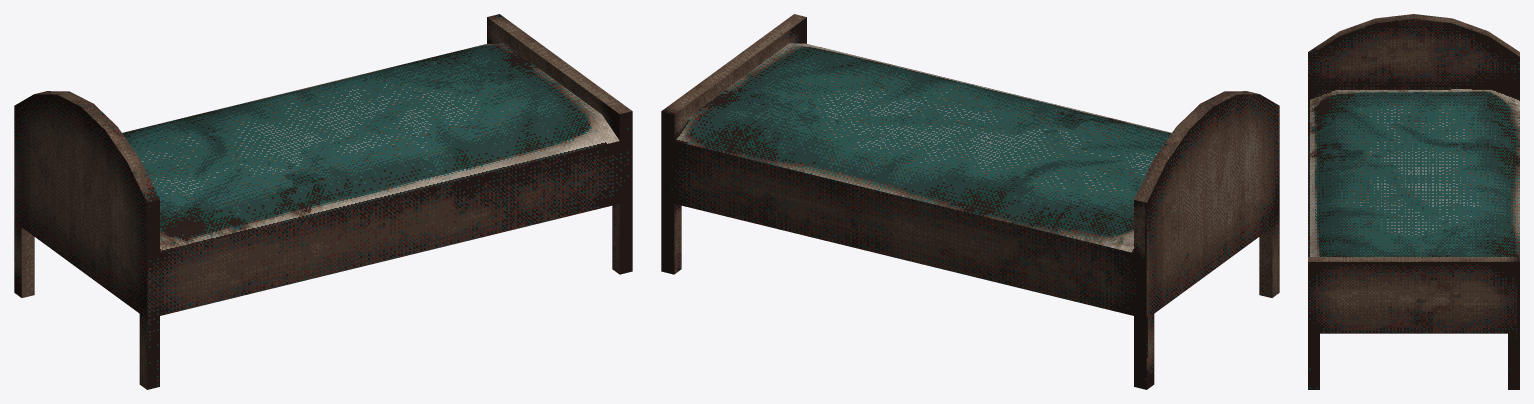
File: bed.glb
The picture shows the model from 3 angles, left to right: view 1: azimuth 30°, elevation 25°; view 2: azimuth 150°, elevation 25°; view 3: azimuth 270°, elevation 25°; orthographic projection. The views are drawn at different scales.
Parts seen in each view (by area): view 1: bed-col; view 2: bed-col; view 3: bed-col.
Part boxes in pixels (<box>): bed-col: <box>14,14,632,389</box>; bed-col: <box>661,14,1279,389</box>; bed-col: <box>1308,14,1519,389</box>.
Size of the model in its own units: 1.9 by 0.878 by 0.9.
1 material, 1 textured.
